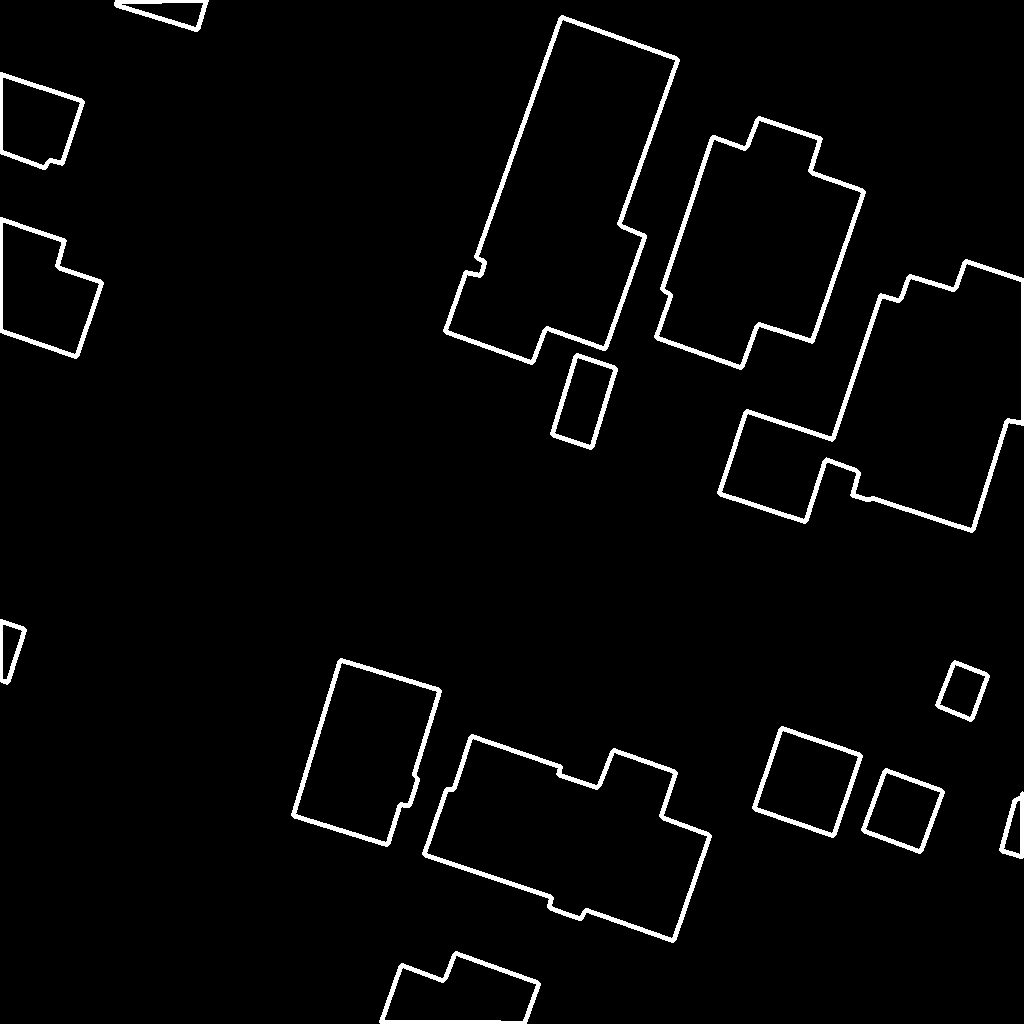building: (445, 17, 679, 364), (424, 736, 711, 942), (826, 261, 1024, 532), (656, 118, 865, 369), (293, 660, 441, 846), (0, 219, 103, 358), (719, 411, 833, 523), (754, 728, 862, 837), (381, 953, 540, 1024), (0, 74, 84, 169), (863, 770, 944, 853), (552, 355, 617, 449), (937, 662, 989, 721), (116, 0, 208, 31), (0, 621, 26, 684), (1001, 791, 1024, 858)
